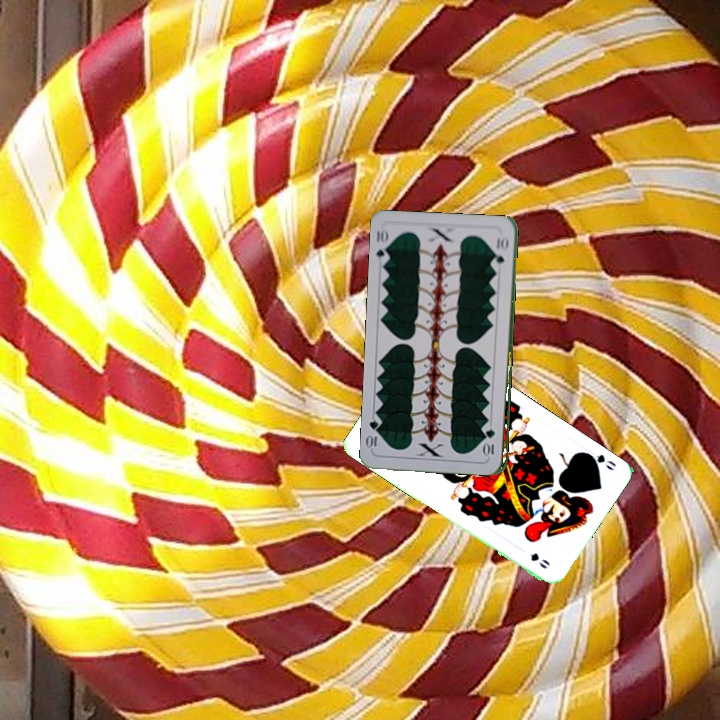G10: (372, 225, 392, 266), (483, 424, 497, 458)
GO: (580, 448, 619, 473)
